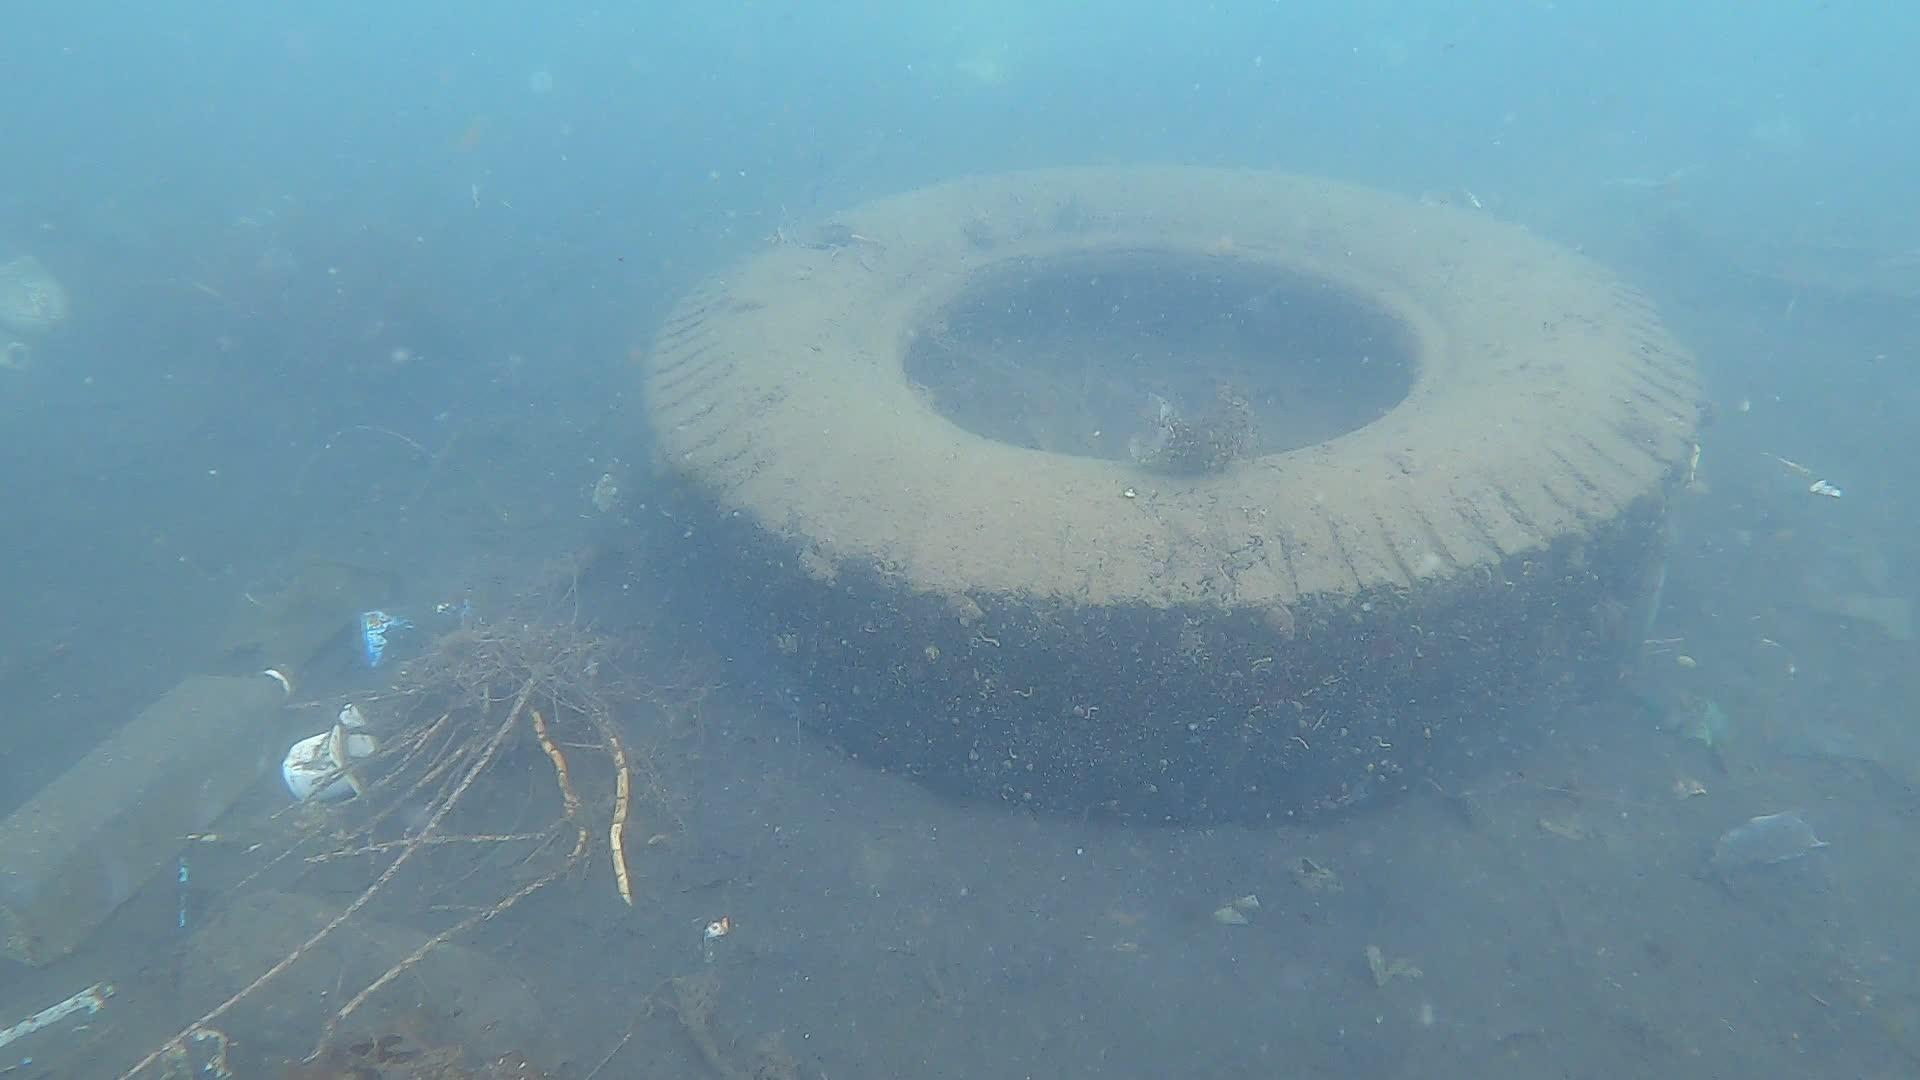tire: (640, 158, 1706, 832)
